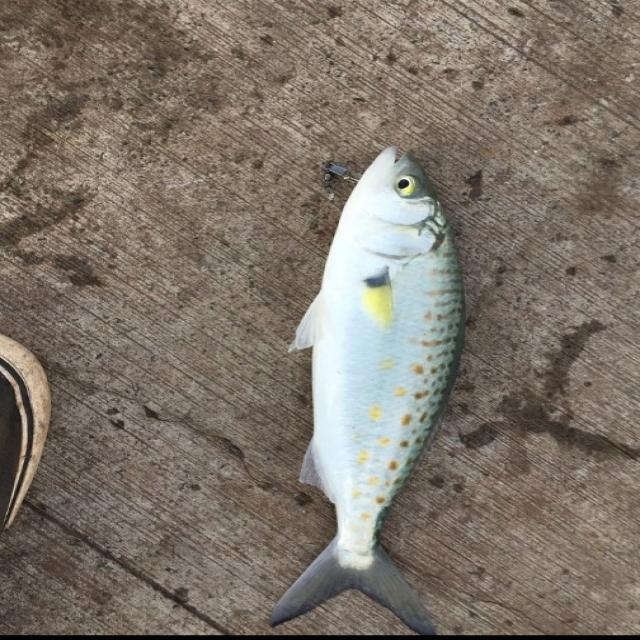Australian Salmon: (234, 107, 518, 618)
